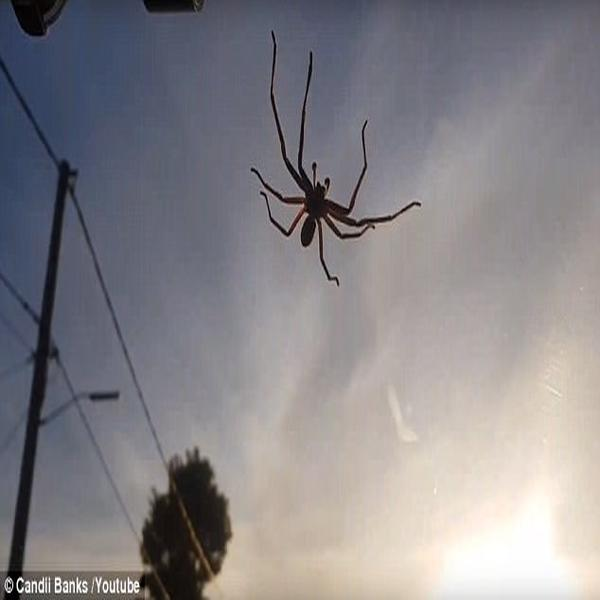Huntsman Spider: (254, 31, 419, 281)
